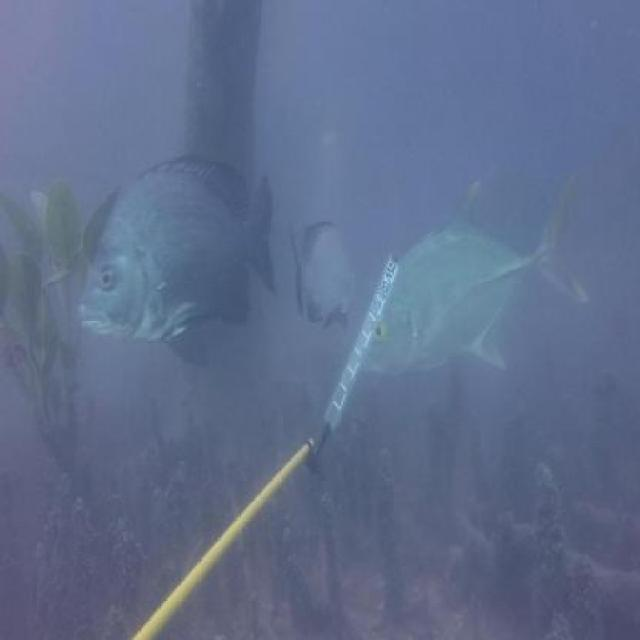Caranx: (358, 178, 600, 384)
acanthopagrus_palmaris: (74, 154, 280, 363), (287, 210, 359, 332)
